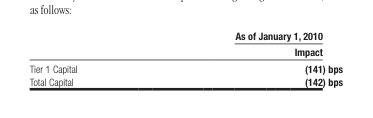table: (28, 29, 342, 86)
table column: (155, 29, 326, 86), (28, 29, 155, 86), (326, 29, 342, 86)
table column header: (28, 29, 342, 74)
table row: (28, 29, 342, 74), (28, 74, 342, 86)
